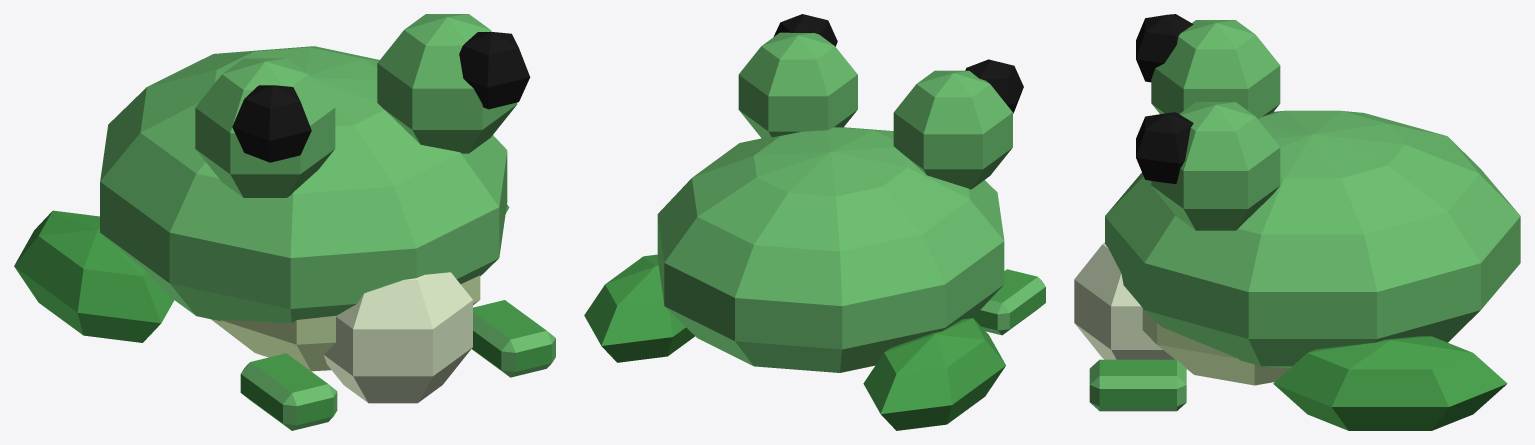
File: teichfrosch.glb
3 renders of one model, left to right at view 1: azimuth 30°, elevation 25°; view 2: azimuth 150°, elevation 25°; view 3: azimuth 270°, elevation 25°, orthographic. The views are drawn at different scales.
Visible parts, largest first — view 1: body-m, throat-m; view 2: body-m; view 3: body-m, throat-m.
Part boxes in pixels (x1=…): body-m: x1=14, y1=14, x2=555, y2=430; throat-m: x1=324, y1=272, x2=472, y2=403; body-m: x1=584, y1=14, x2=1045, y2=430; body-m: x1=1089, y1=14, x2=1520, y2=430; throat-m: x1=1074, y1=242, x2=1174, y2=359.
Bounding box in the file's own units: 0.4743 × 0.35 × 0.4606.
